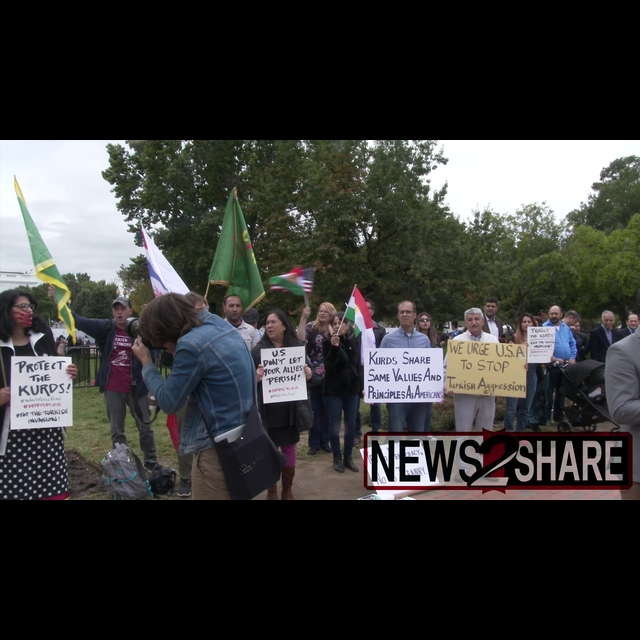IBKY: (343, 284, 374, 337)
